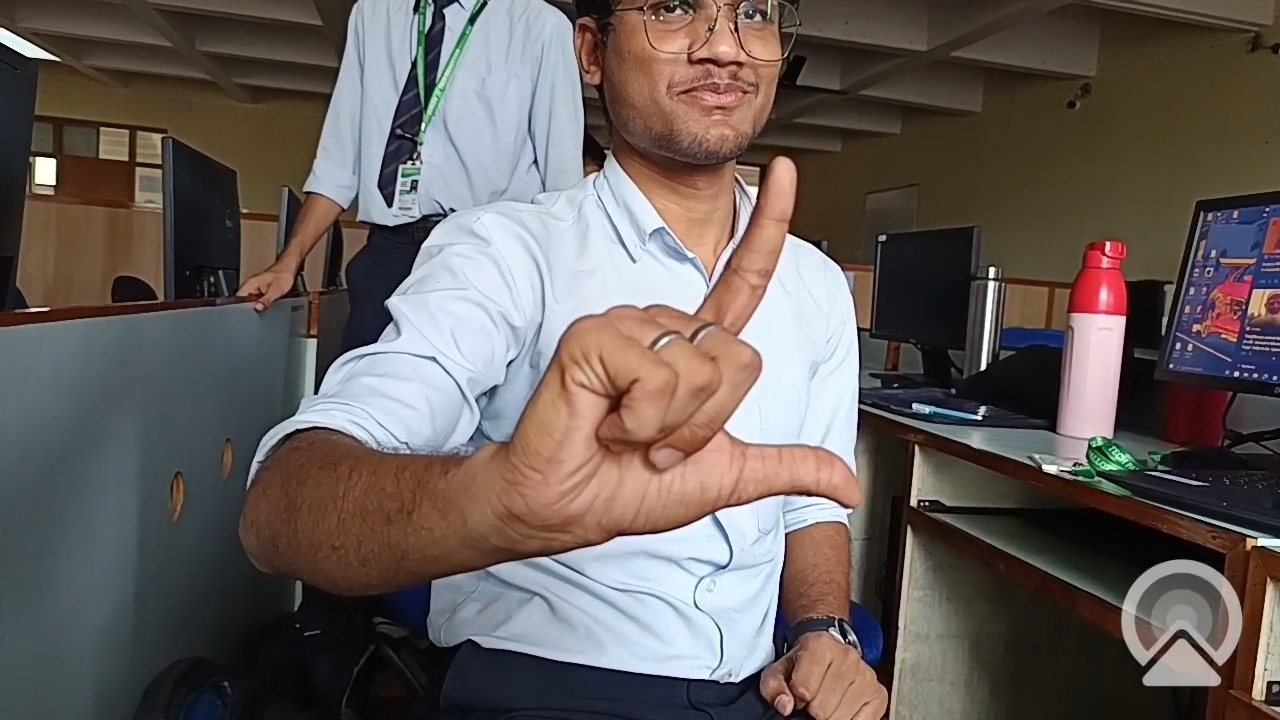L: (505, 135, 900, 582)
